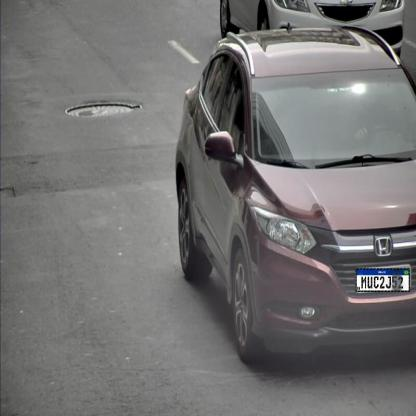PlacaM: (356, 268, 410, 292)
